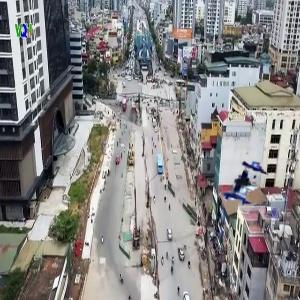drone: (187, 135, 278, 226)
